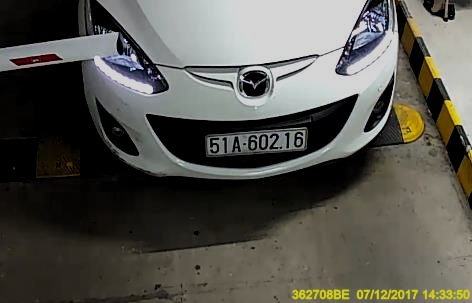plate: (202, 127, 312, 158)
